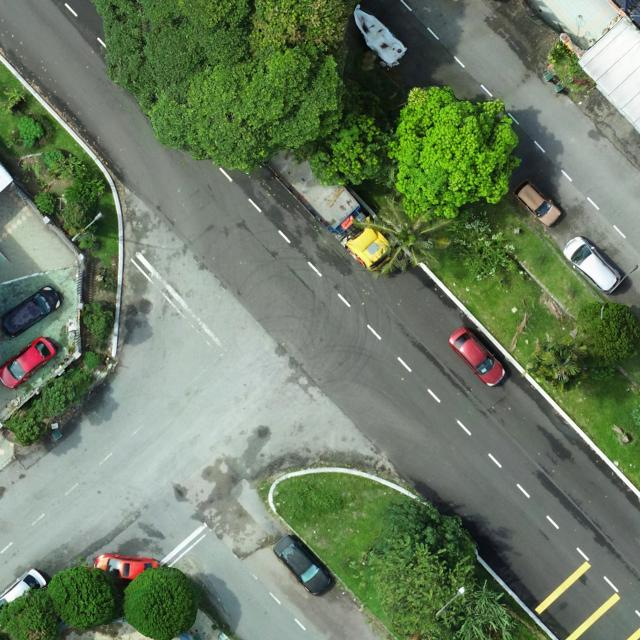Tree: (83, 0, 370, 171), (387, 85, 523, 219), (293, 77, 392, 186), (373, 536, 478, 634), (351, 193, 454, 276), (367, 499, 480, 569), (122, 566, 198, 640), (451, 211, 520, 288), (46, 566, 120, 631), (442, 578, 513, 640), (577, 300, 640, 366), (525, 340, 589, 392), (0, 588, 62, 640), (32, 367, 90, 418), (5, 410, 50, 445), (40, 150, 88, 180), (82, 301, 115, 339), (64, 199, 91, 230), (18, 116, 44, 147), (34, 191, 56, 215), (3, 89, 26, 108), (82, 351, 102, 369), (630, 399, 640, 426)
